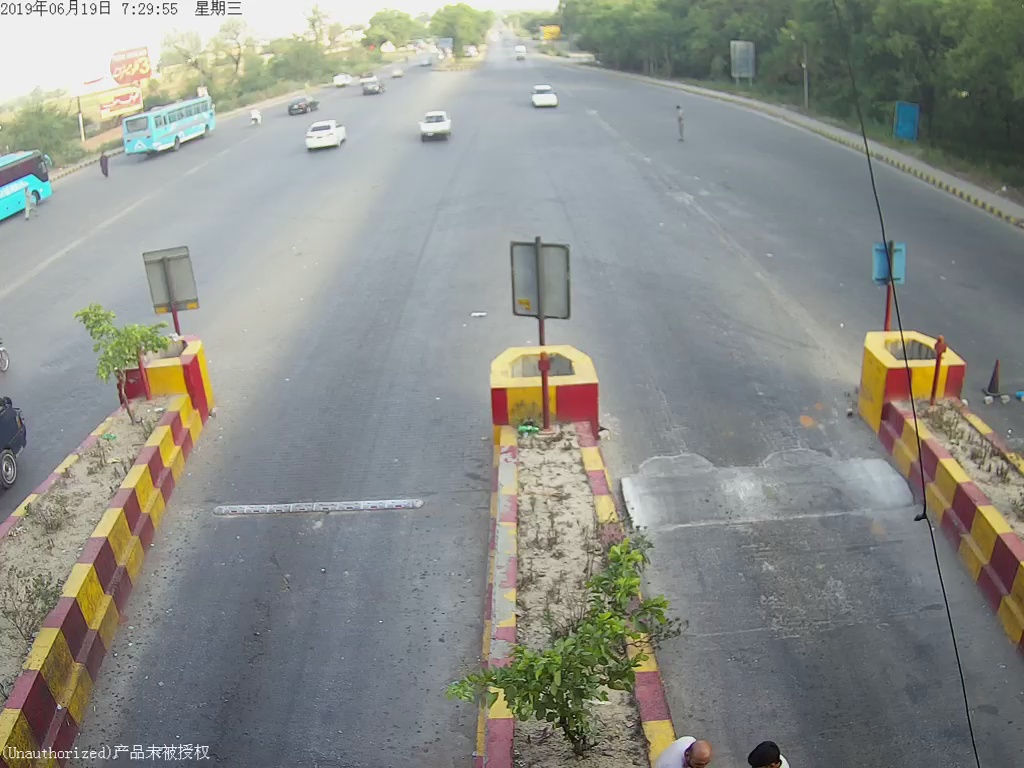Cat-1: (412, 105, 464, 152)
